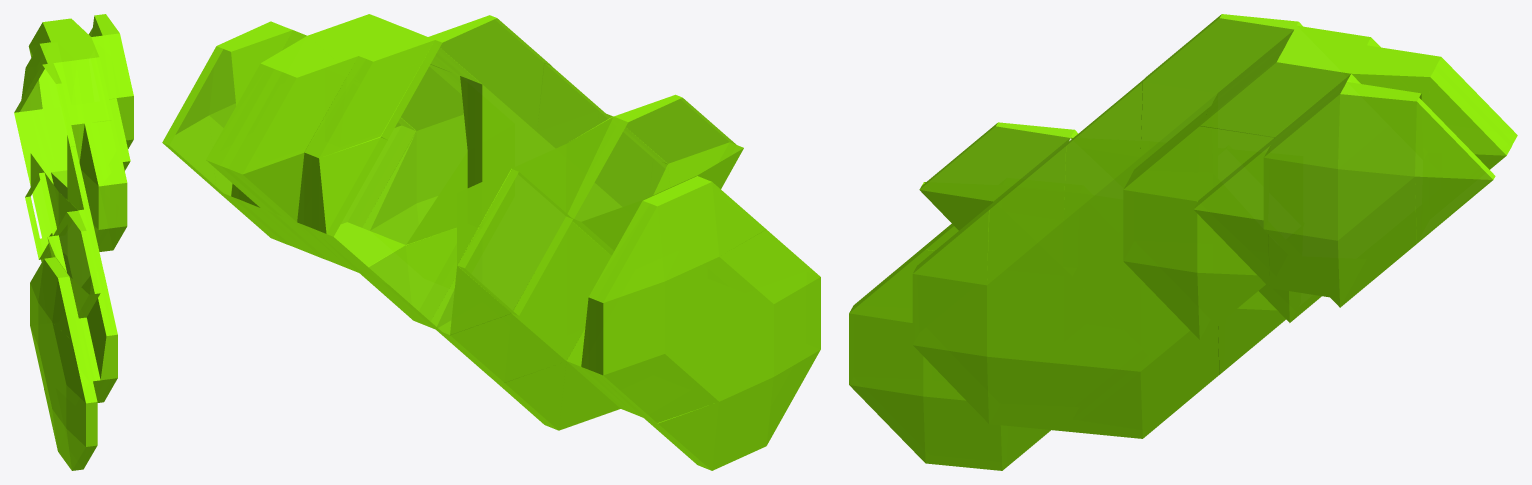
Rendered from SVV_Fragment12.gltf.
3 renders of one model, left to right at view 1: azimuth 30°, elevation 25°; view 2: azimuth 150°, elevation 25°; view 3: azimuth 270°, elevation 25°, orthographic. The views are drawn at different scales.
Visible parts, largest first — view 1: Fragment12; view 2: Fragment12; view 3: Fragment12.
Part boxes in pixels (x1,y1,x2,y2): Fragment12: (14,14,133,470); Fragment12: (162,14,820,470); Fragment12: (849,14,1517,470).
Bounding box in the file's own units: 3182 × 4611 × 5591.
